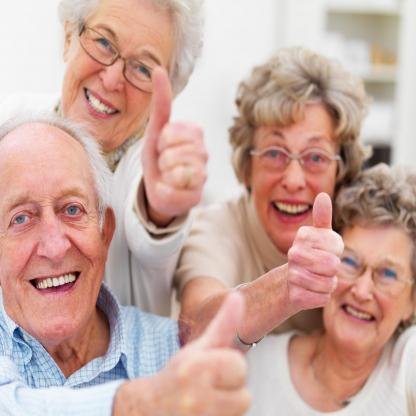Thumbs-Up: (137, 69, 208, 223), (283, 181, 343, 332)
